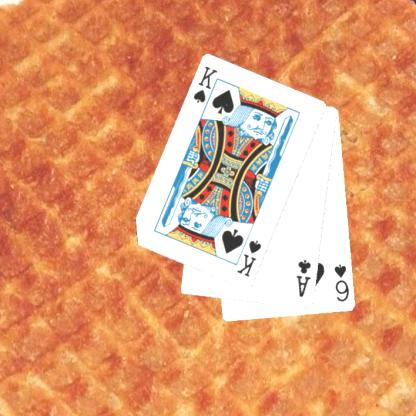6S: (332, 262, 351, 303)
AC: (294, 258, 312, 298)
KS: (191, 64, 221, 112), (234, 238, 264, 278)
